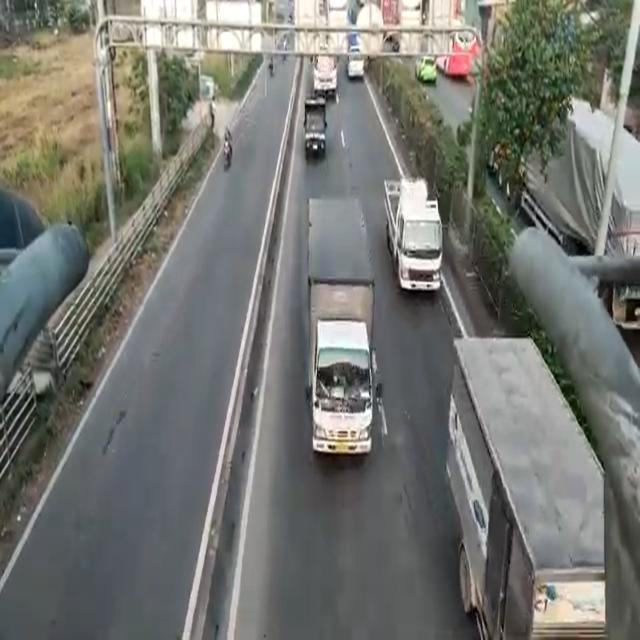motor: (226, 129, 236, 173)
truck: (451, 326, 598, 636), (302, 188, 376, 460), (380, 167, 446, 298), (300, 89, 330, 161)
